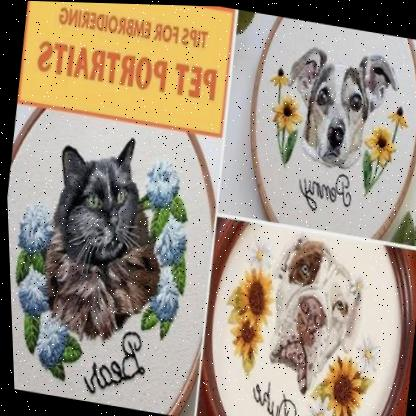cat: (14, 116, 190, 352)
dog: (246, 230, 381, 402), (262, 33, 410, 182)
